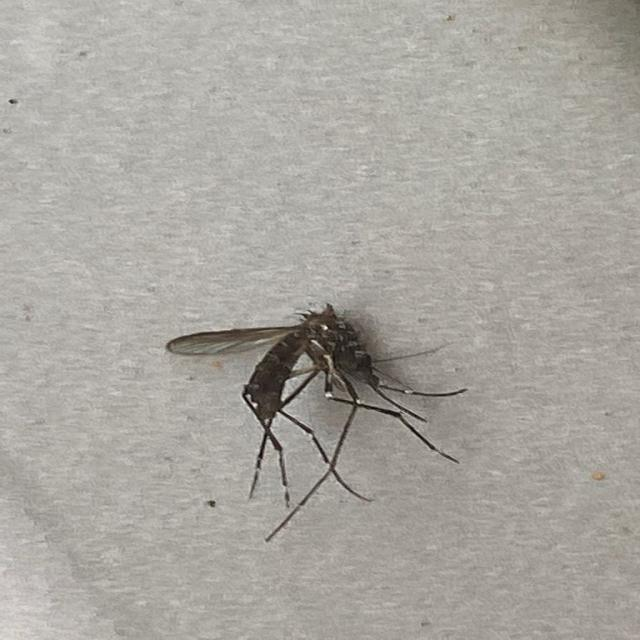albopictus: (163, 290, 459, 536)
